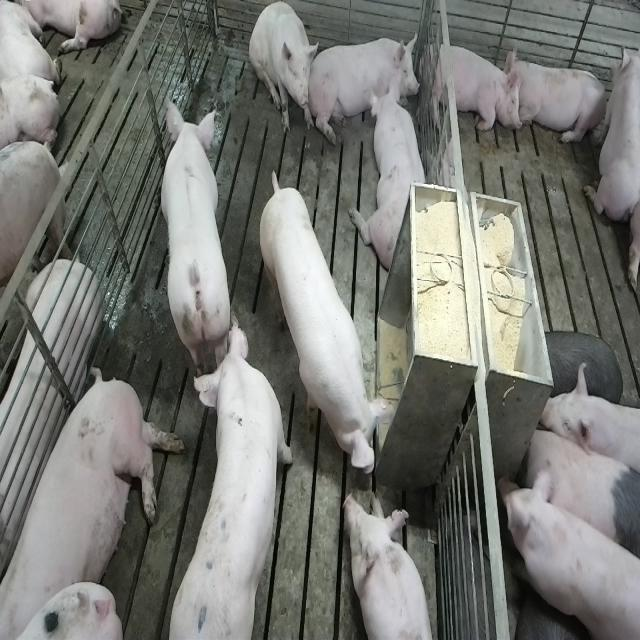Lateral_lying: (5, 363, 186, 635), (0, 260, 102, 577)
Sitting: (250, 4, 318, 140)
Standing: (258, 173, 397, 480), (167, 308, 296, 635), (496, 471, 638, 638), (158, 98, 232, 380), (520, 422, 637, 568), (0, 141, 71, 357), (541, 359, 640, 481), (535, 326, 623, 414)
Sternal_lying: (357, 83, 430, 274), (346, 488, 438, 638), (313, 29, 419, 138), (584, 37, 637, 224), (508, 52, 610, 148), (424, 37, 520, 137)
